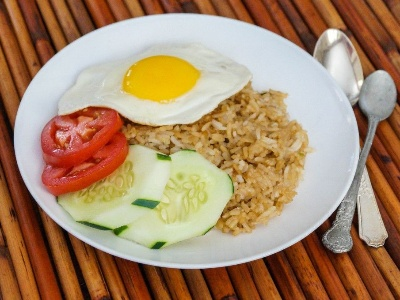nasigoreng: (60, 45, 311, 230)
